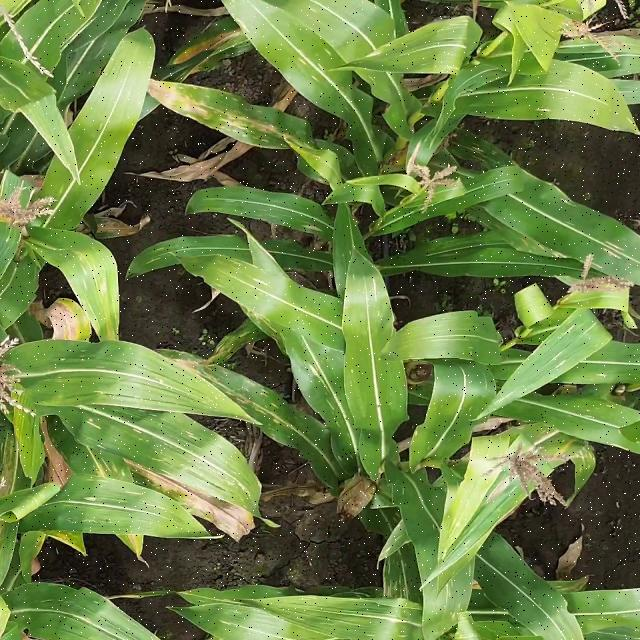gray-leaf-spot: (72, 348, 354, 508), (210, 198, 399, 332), (473, 154, 640, 298), (152, 40, 358, 152), (518, 317, 637, 484), (339, 515, 494, 640), (48, 241, 156, 353), (18, 5, 122, 111)
